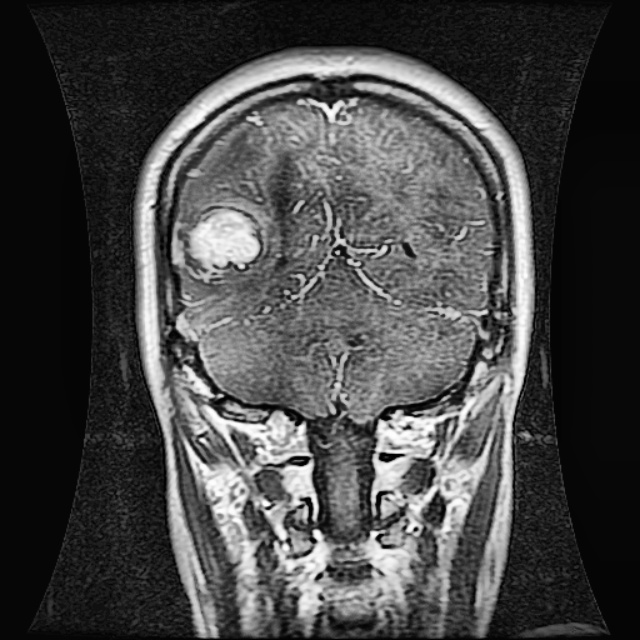Meningioma: (170, 202, 265, 283)
